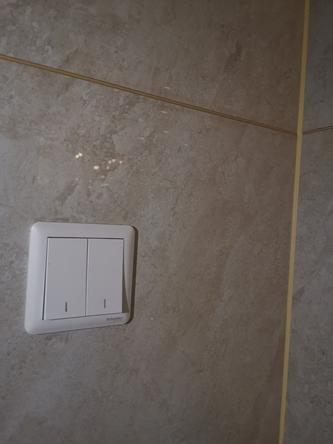switch: (43, 229, 93, 322), (82, 233, 130, 317)
